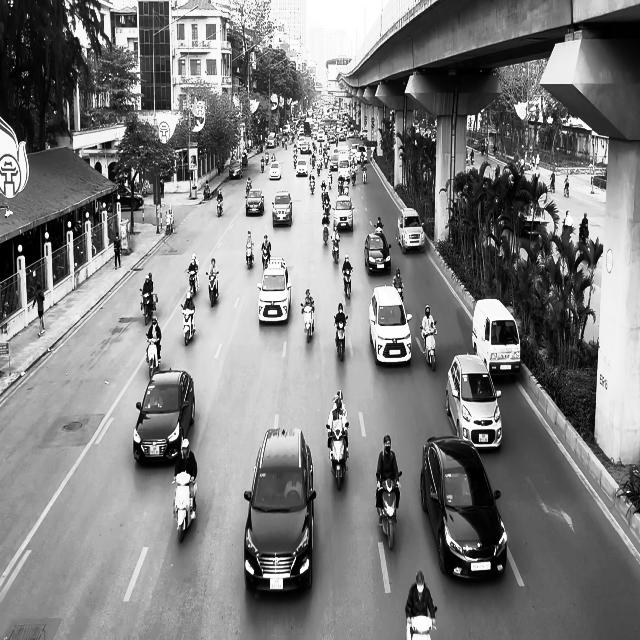car: (420, 436, 507, 580), (244, 426, 316, 594), (133, 366, 195, 464), (446, 352, 502, 451), (368, 284, 412, 366), (256, 256, 292, 324), (397, 208, 425, 254), (364, 231, 391, 275), (332, 194, 354, 231), (115, 184, 144, 210), (272, 191, 292, 227), (245, 188, 264, 216), (229, 159, 242, 179), (269, 161, 281, 180)
motorbike: (377, 472, 402, 550), (172, 474, 196, 543), (326, 422, 349, 491), (406, 606, 437, 640), (420, 325, 437, 371), (333, 315, 348, 361), (181, 302, 195, 346), (140, 288, 157, 324), (146, 336, 160, 379), (300, 303, 314, 343), (206, 271, 219, 307), (187, 268, 199, 296), (342, 267, 352, 299), (331, 236, 340, 263), (245, 244, 254, 269), (262, 246, 270, 271), (216, 195, 223, 217)
